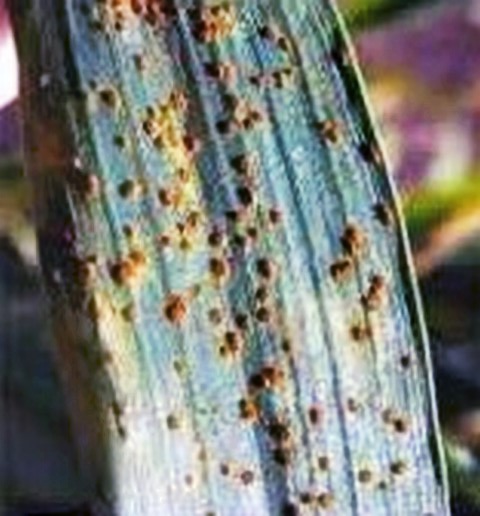Leaf Rust: (57, 55, 437, 508)
